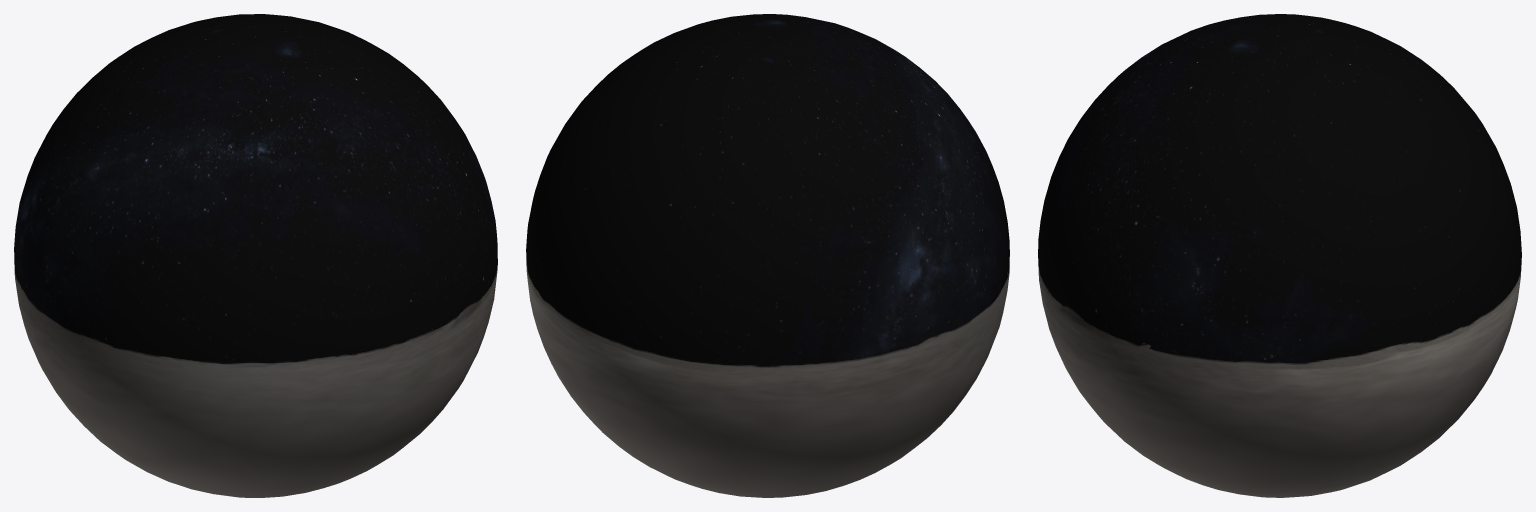
The model's file is Sky-and-moon-Environment.glb.
The picture shows the model from 3 angles, left to right: view 1: azimuth 30°, elevation 25°; view 2: azimuth 150°, elevation 25°; view 3: azimuth 270°, elevation 25°; orthographic projection.
Parts seen in each view (by area): view 1: Environment-Moon-Sky; view 2: Environment-Moon-Sky; view 3: Environment-Moon-Sky.
Part boxes in pixels (bbox=[...]): Environment-Moon-Sky: bbox=[14, 14, 497, 497]; Environment-Moon-Sky: bbox=[526, 14, 1009, 497]; Environment-Moon-Sky: bbox=[1038, 14, 1521, 497].
Size of the model in its own units: 162497 by 162535 by 162591.
Materials: 1 (1 with a texture image).
